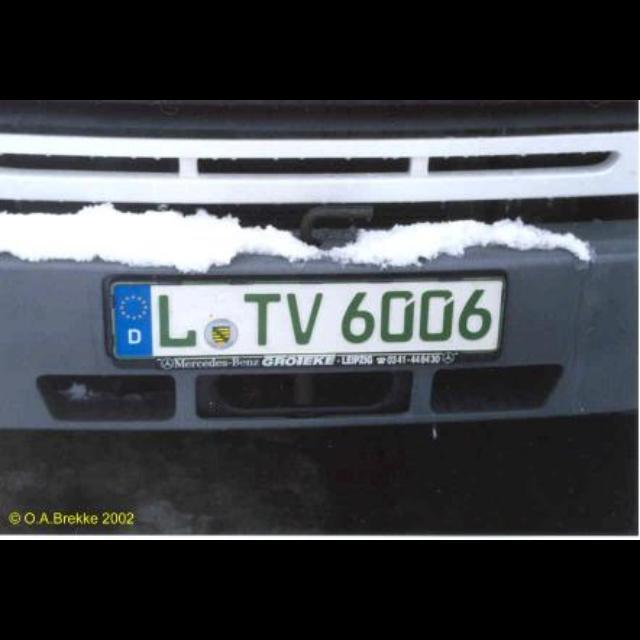license-plates: (110, 276, 506, 368)
